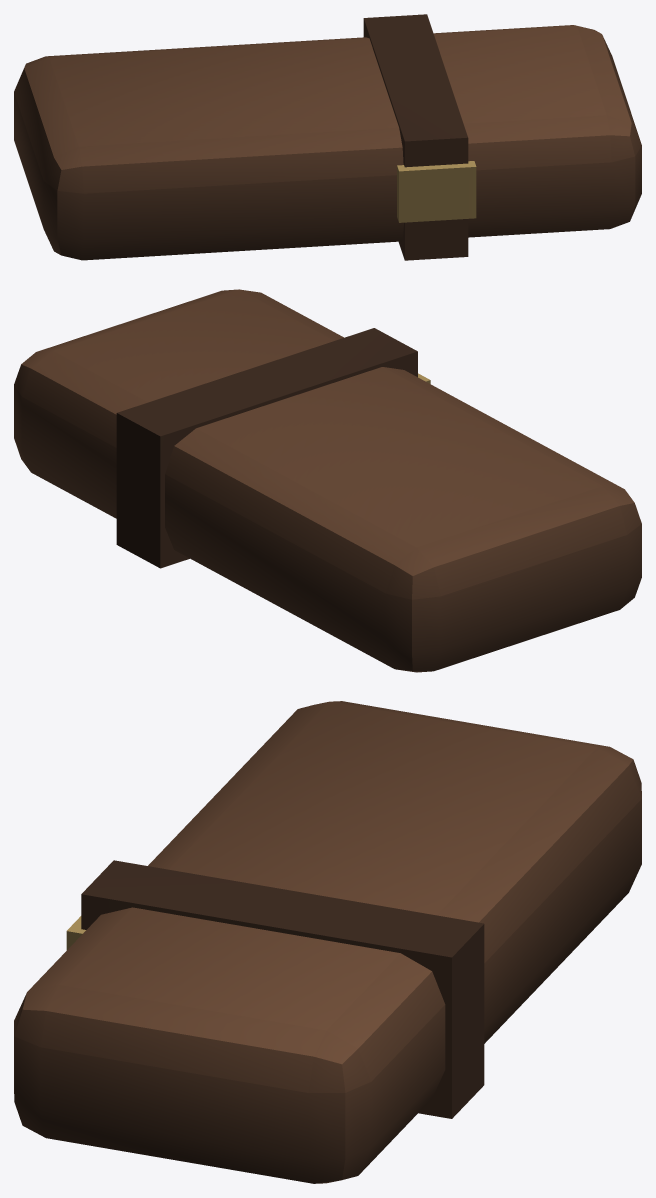
Rendered from ph_item_anatomy_case.glb.
3 views of the same model, one above another, from view 1: azimuth 30°, elevation 25°; view 2: azimuth 150°, elevation 25°; view 3: azimuth 270°, elevation 25° (orthographic). The views are drawn at different scales.
Visible parts, largest first — view 1: ph_item_anatomy_case; view 2: ph_item_anatomy_case; view 3: ph_item_anatomy_case.
Part boxes in pixels (box(x1,y1,x2,y2)): ph_item_anatomy_case: box(14, 14, 641, 260); ph_item_anatomy_case: box(14, 289, 641, 672); ph_item_anatomy_case: box(14, 701, 641, 1183).
Bounding box in the file's own units: 0.3602 × 0.074 × 0.2607.
